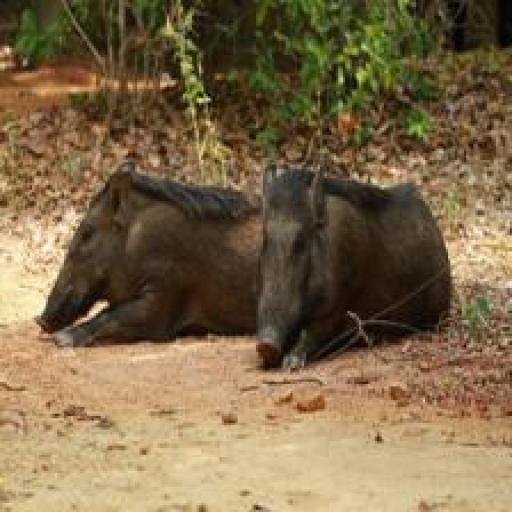Pig: (37, 146, 266, 351), (256, 151, 456, 380)
